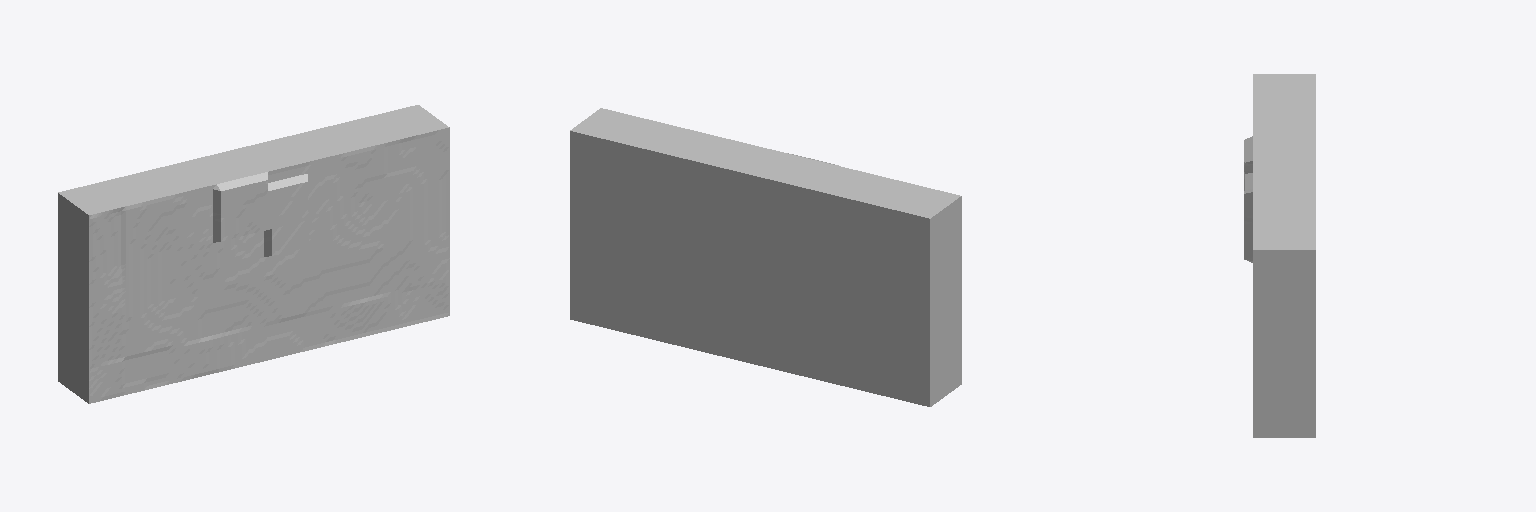
Rendered from rectangular_prism_bumps_3_6.obj.
The picture shows the model from 3 angles: view 1: azimuth 30°, elevation 25°; view 2: azimuth 150°, elevation 25°; view 3: azimuth 270°, elevation 25°; orthographic projection.
Bounding box in the file's own units: 10 × 5 × 1.72.